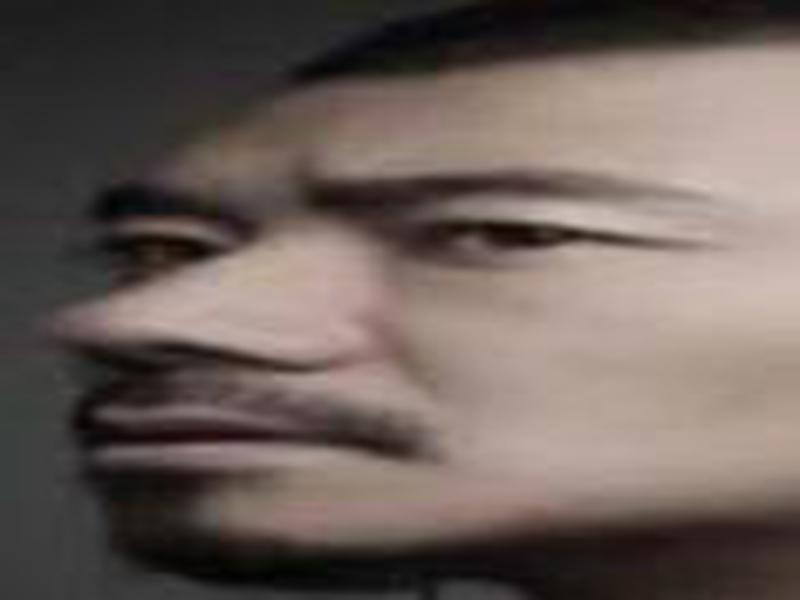without_mask: (38, 70, 800, 563)
